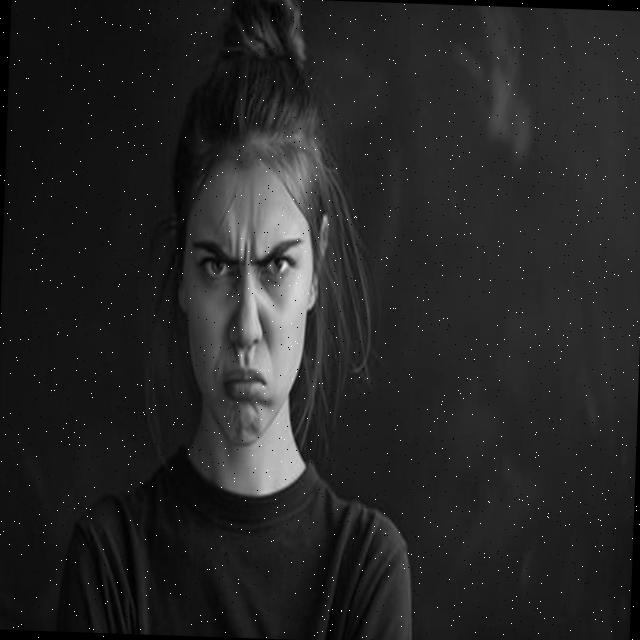Angry: (176, 158, 318, 448)
